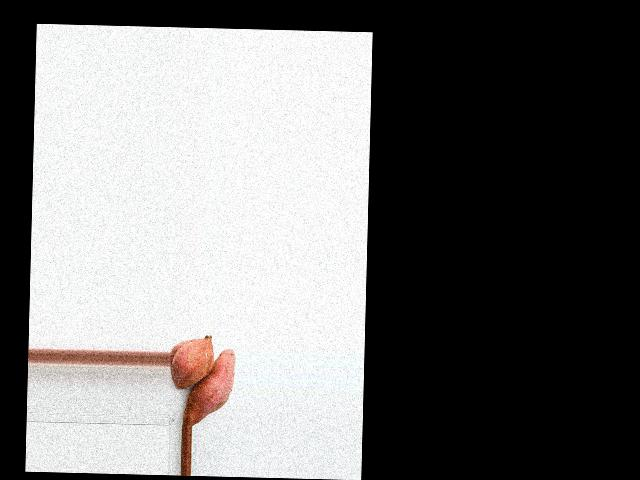sweet_potato: (175, 333, 210, 386)
